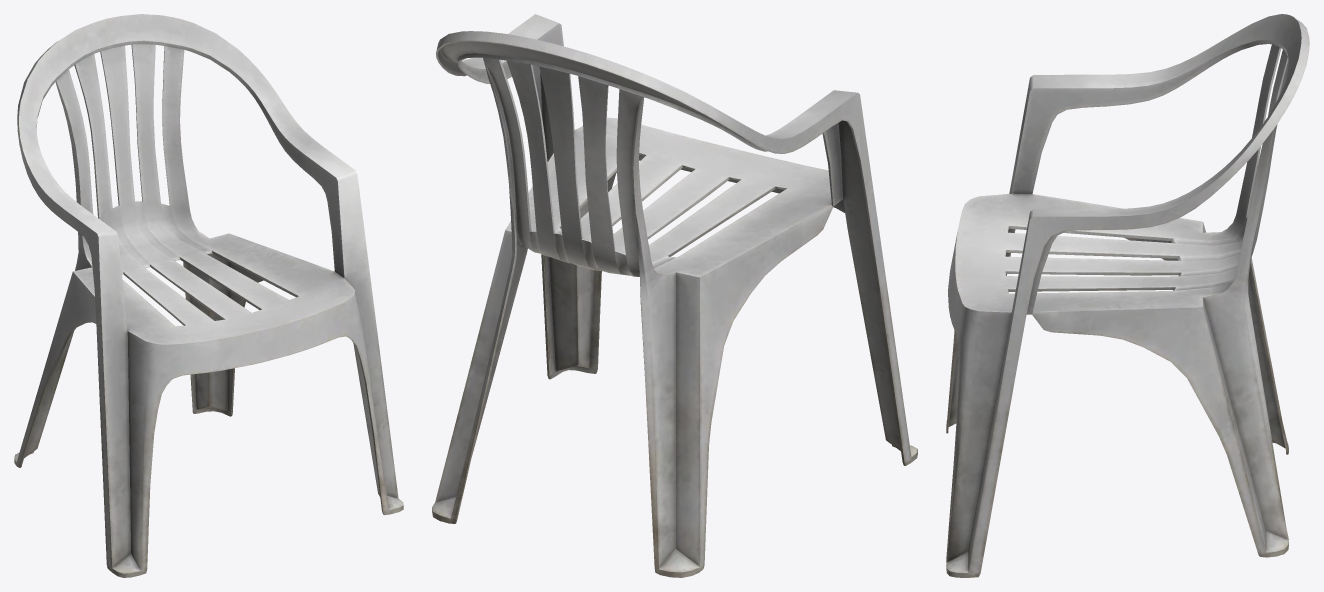
File: monoChair.glb
The picture shows the model from 3 angles, left to right: view 1: azimuth 30°, elevation 25°; view 2: azimuth 150°, elevation 25°; view 3: azimuth 270°, elevation 25°; orthographic projection. The views are drawn at different scales.
Parts seen in each view (by area): view 1: plastic_monobloc_chair_01; view 2: plastic_monobloc_chair_01; view 3: plastic_monobloc_chair_01.
Boxes of the visible parts, bbox=[...] form: plastic_monobloc_chair_01: bbox=[14, 14, 403, 577]; plastic_monobloc_chair_01: bbox=[432, 14, 917, 577]; plastic_monobloc_chair_01: bbox=[946, 14, 1309, 577].
Bounding box in the file's own units: 0.6418 × 0.8798 × 0.6276.
Materials: 1 (1 with a texture image).
